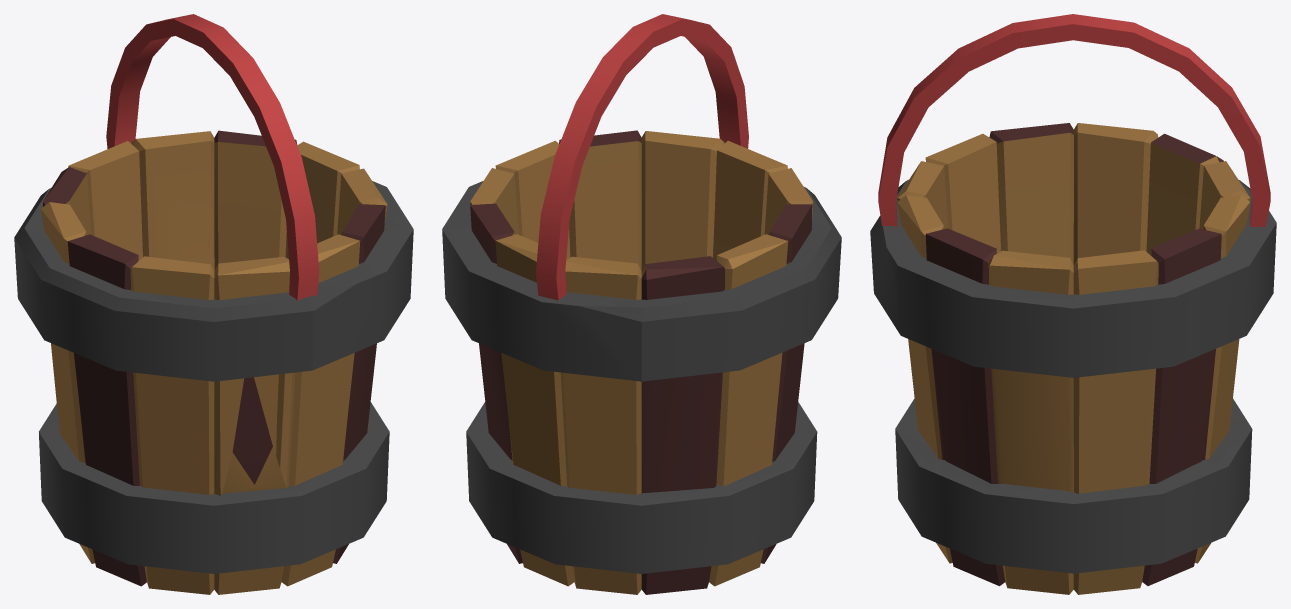
Rendered from ea_prop_container_basket_03b_pre__1__lev1.glb.
The picture shows the model from 3 angles, left to right: view 1: azimuth 30°, elevation 25°; view 2: azimuth 150°, elevation 25°; view 3: azimuth 270°, elevation 25°; orthographic projection.
Parts seen in each view (by area): view 1: ea_prop_container_basket_03b_pre__1__lev1; view 2: ea_prop_container_basket_03b_pre__1__lev1; view 3: ea_prop_container_basket_03b_pre__1__lev1.
Part boxes in pixels (x1,y1,x2,y2): ea_prop_container_basket_03b_pre__1__lev1: (14, 14, 413, 594); ea_prop_container_basket_03b_pre__1__lev1: (442, 14, 841, 594); ea_prop_container_basket_03b_pre__1__lev1: (870, 14, 1276, 594).
Bounding box in the file's own units: 0.4227 × 0.5922 × 0.4227.
Materials: 1 (1 with a texture image).
